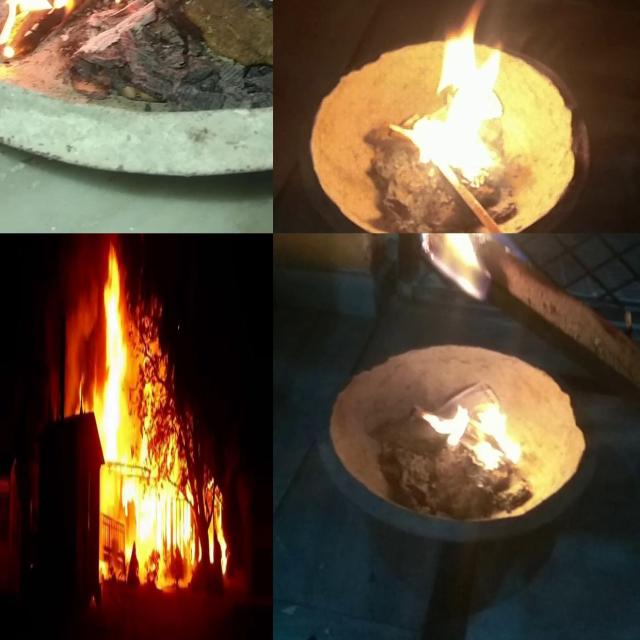fire: (408, 18, 540, 190), (1, 0, 221, 66), (418, 400, 526, 470), (99, 247, 129, 455), (438, 233, 502, 295), (214, 498, 233, 582), (74, 364, 100, 416)
